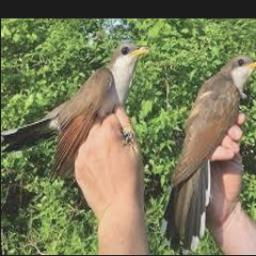Cuckoo: (1, 43, 149, 182), (163, 55, 256, 252)
